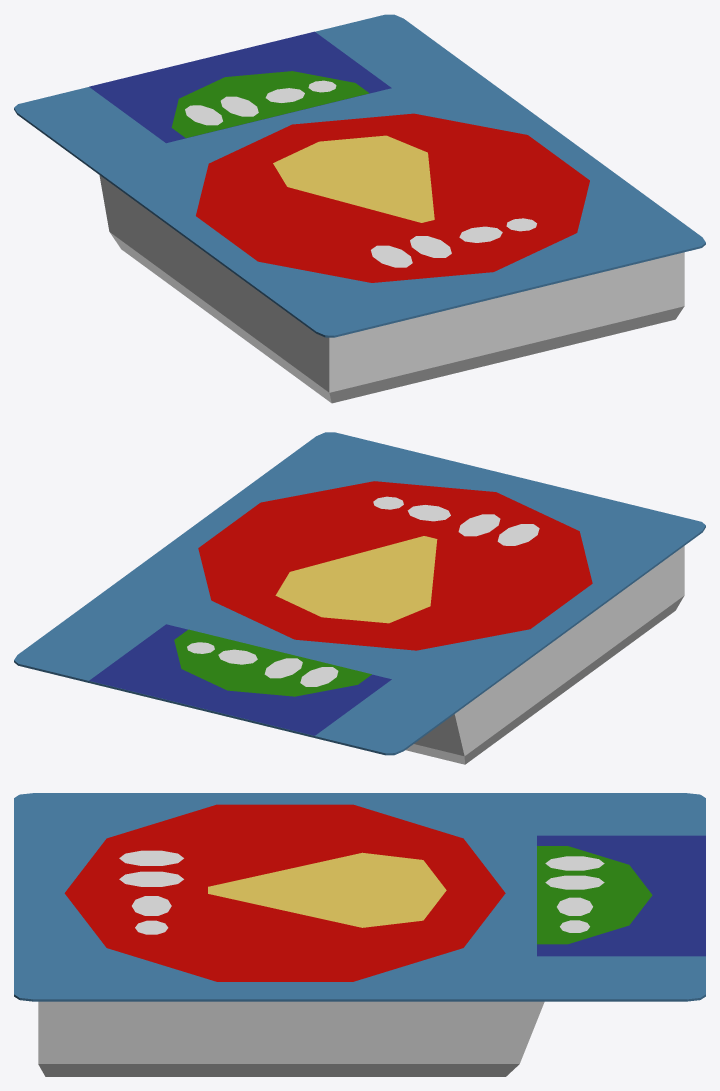
The model's file is Ma_Cheese_4.fbx.
3 views of the same model, one above another, from view 1: azimuth 30°, elevation 25°; view 2: azimuth 150°, elevation 25°; view 3: azimuth 270°, elevation 25° (orthographic). The views are drawn at different scales.
Visible parts, largest first — view 1: Ma_Cheese_4; view 2: Ma_Cheese_4; view 3: Ma_Cheese_4.
Boxes of the visible parts, bbox=[...] form: Ma_Cheese_4: bbox=[14, 14, 705, 403]; Ma_Cheese_4: bbox=[14, 432, 705, 764]; Ma_Cheese_4: bbox=[14, 793, 705, 1076].
Bounding box in the file's own units: 87.42 × 124 × 19.88.
